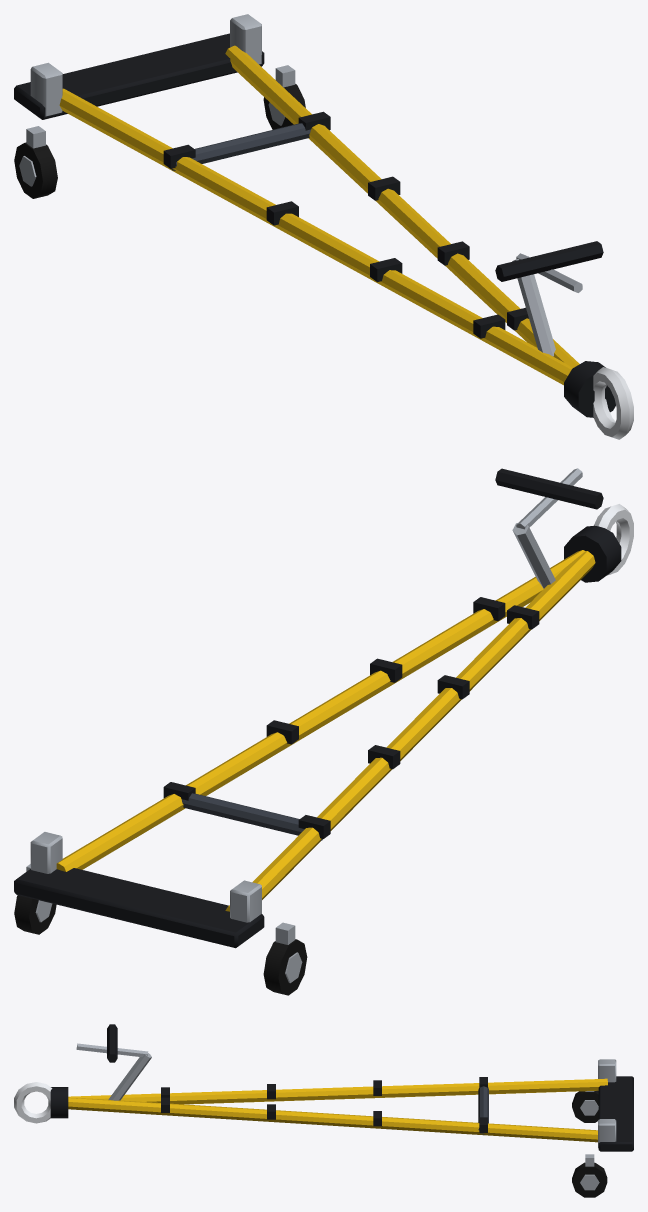
File: hangartool_tow_bar.glb
The picture shows the model from 3 angles, top to bottom: view 1: azimuth 30°, elevation 25°; view 2: azimuth 150°, elevation 25°; view 3: azimuth 270°, elevation 25°; orthographic projection. The views are drawn at different scales.
Parts seen in each view (by area): view 1: hangartool_tow_bar; view 2: hangartool_tow_bar; view 3: hangartool_tow_bar.
Part boxes in pixels (left/top/right/bottom): hangartool_tow_bar: left=14, top=14, right=633, bottom=439; hangartool_tow_bar: left=14, top=468, right=633, bottom=995; hangartool_tow_bar: left=14, top=1024, right=633, bottom=1197.
Bounding box in the file's own units: 1.07 × 0.7411 × 3.51.
